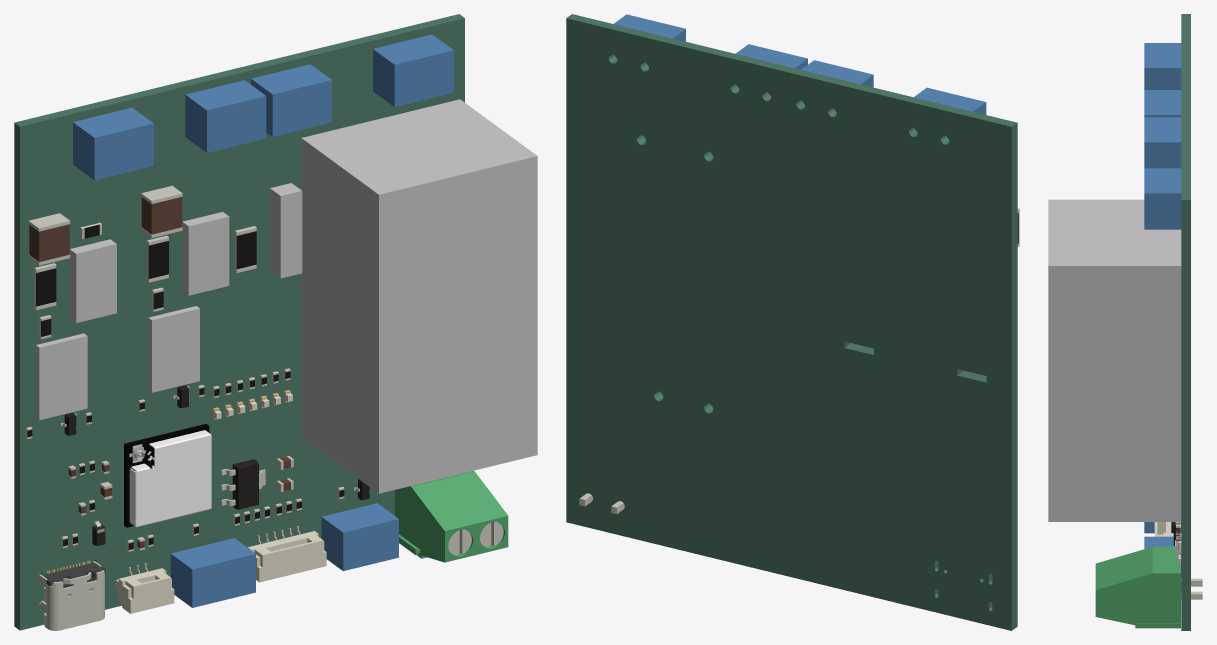
Rendered from board.glb.
3 renders of one model, left to right at view 1: azimuth 30°, elevation 25°; view 2: azimuth 150°, elevation 25°; view 3: azimuth 270°, elevation 25°, orthographic. The views are drawn at different scales.
Visible parts, largest first — view 1: =>[0:1:1:34], PS1, =>[0:1:1:31]_3d2acd, =>[0:1:1:13]_9a1661, J14, J15, J12, J10, J13, J2, U9, U8 (+14 smaller); view 2: =>[0:1:1:34], J15, J14, J12, J13; view 3: PS1, =>[0:1:1:31]_3d2acd, =>[0:1:1:34], J12, J13, J15, J14, J2, =>[0:1:1:27]_f88c45.
Part boxes in pixels (x1,y1,x2,y2): =>[0:1:1:34]: (14,14,464,630); PS1: (301,99,537,493); =>[0:1:1:31]_3d2acd: (395,470,508,562); =>[0:1:1:13]_9a1661: (129,430,211,527); J14: (185,80,266,152); J15: (73,107,153,180); J12: (373,34,453,107); J10: (170,538,255,607); J13: (251,64,331,136); J2: (321,503,398,571); U9: (36,333,87,420); U8: (148,306,199,392); =>[0:1:1:34]: (566,14,1017,630); J15: (914,87,986,138); J14: (801,60,873,111); J12: (614,14,685,65); J13: (735,44,807,95); PS1: (1048,199,1181,521); =>[0:1:1:31]_3d2acd: (1095,546,1180,628); =>[0:1:1:34]: (1181,14,1190,630); J12: (1144,168,1181,229); J13: (1144,117,1181,168); J15: (1144,43,1181,89); J14: (1144,90,1181,117); J2: (1144,536,1181,591); =>[0:1:1:27]_f88c45: (1154,522,1173,536).
Bounding box in the file's own units: 71.2 × 77 × 24.95.
